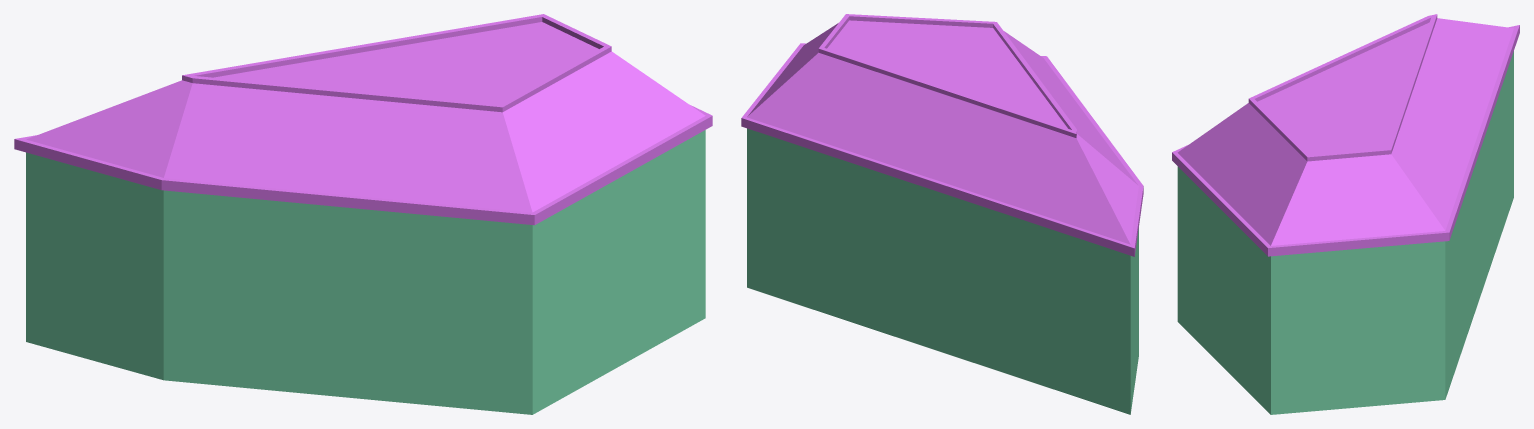
The model's file is Batiment21.fbx.
3 renders of one model, left to right at view 1: azimuth 30°, elevation 25°; view 2: azimuth 150°, elevation 25°; view 3: azimuth 270°, elevation 25°, orthographic. The views are drawn at different scales.
Parts seen in each view (by area): view 1: Batiment21; view 2: Batiment21; view 3: Batiment21.
Part boxes in pixels (left/top/right/bottom): Batiment21: left=14, top=14, right=712, bottom=414; Batiment21: left=741, top=14, right=1143, bottom=414; Batiment21: left=1172, top=14, right=1519, bottom=414.
Size of the model in its own units: 69.28 by 33.03 by 45.59.
